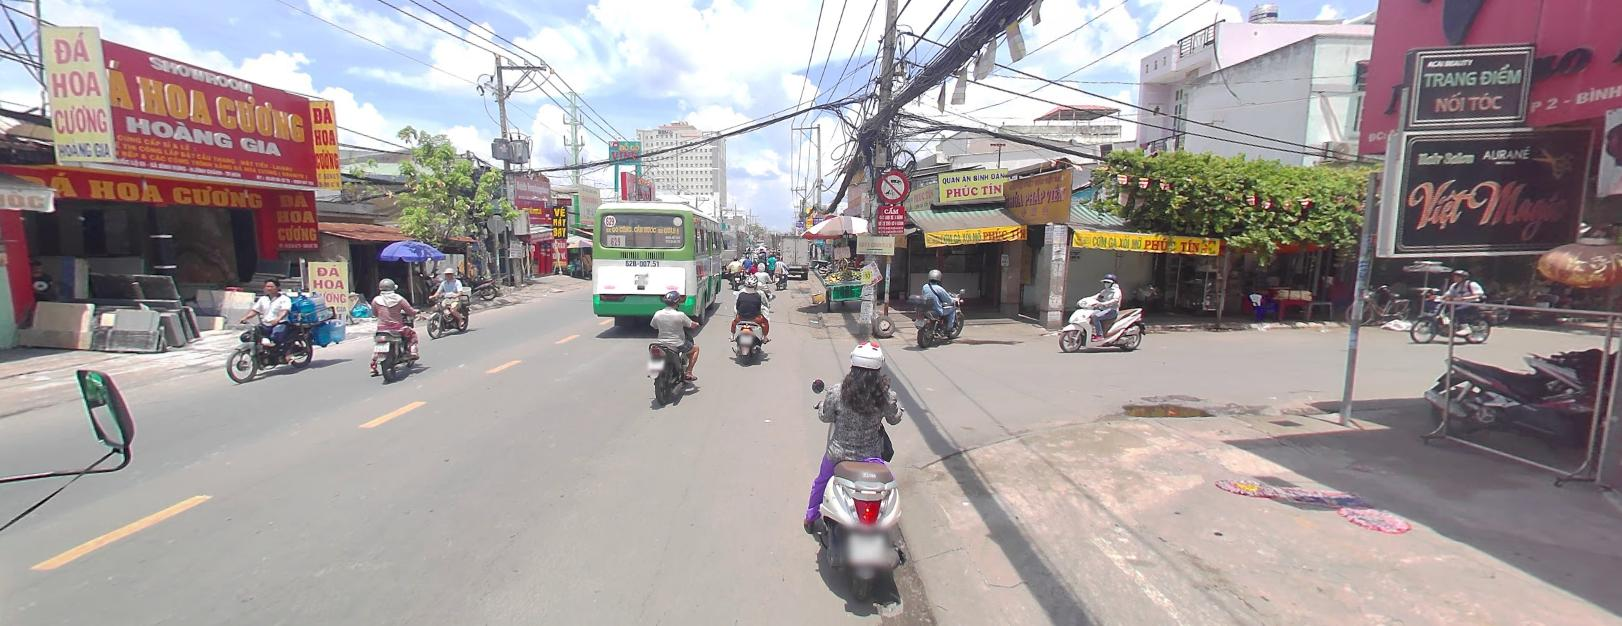Cam con lai: (877, 169, 907, 201)
